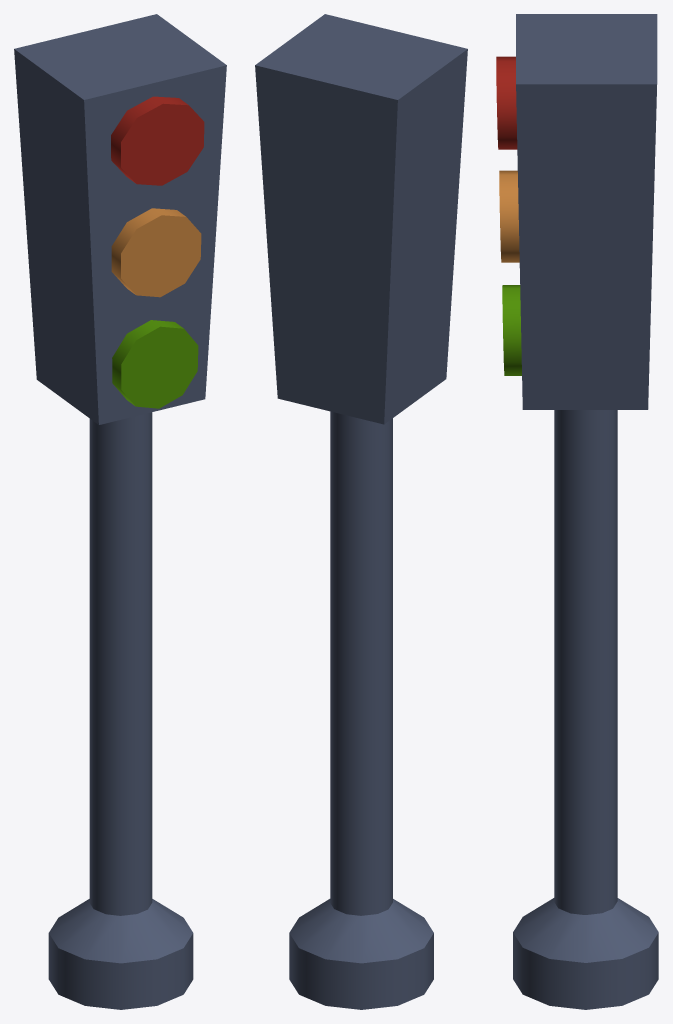
Rendered from traflight_v1.fbx.
3 renders of one model, left to right at view 1: azimuth 30°, elevation 25°; view 2: azimuth 150°, elevation 25°; view 3: azimuth 270°, elevation 25°, orthographic.
Parts seen in each view (by area): view 1: traflight_v1; view 2: traflight_v1; view 3: traflight_v1.
Boxes of the visible parts, x1,y1,x2,y2 form: traflight_v1: [14, 14, 226, 1009]; traflight_v1: [255, 14, 467, 1009]; traflight_v1: [496, 14, 658, 1009].
Size of the model in its own units: 42.54 by 262 by 41.58.
